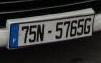5: (55, 21, 64, 39), (28, 25, 37, 43), (77, 18, 84, 36)
6: (70, 20, 77, 37)
7: (21, 25, 29, 43), (63, 21, 71, 38)
G: (84, 17, 91, 35)
N: (36, 24, 45, 42)
